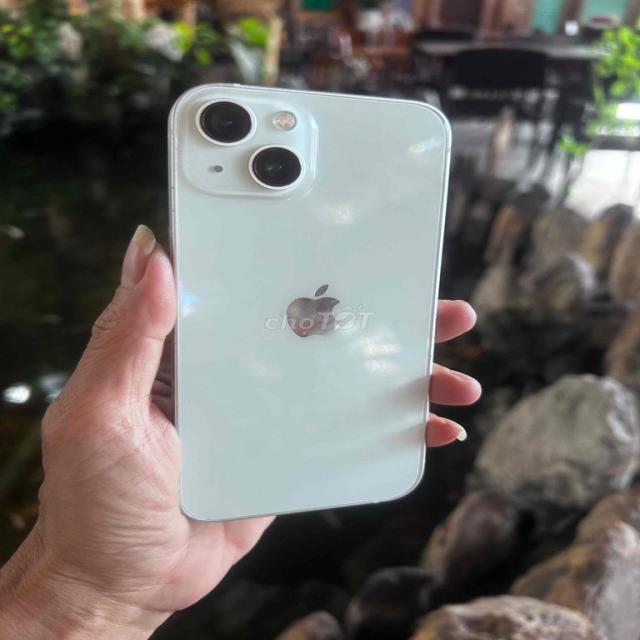gen_15: (137, 74, 460, 549)
